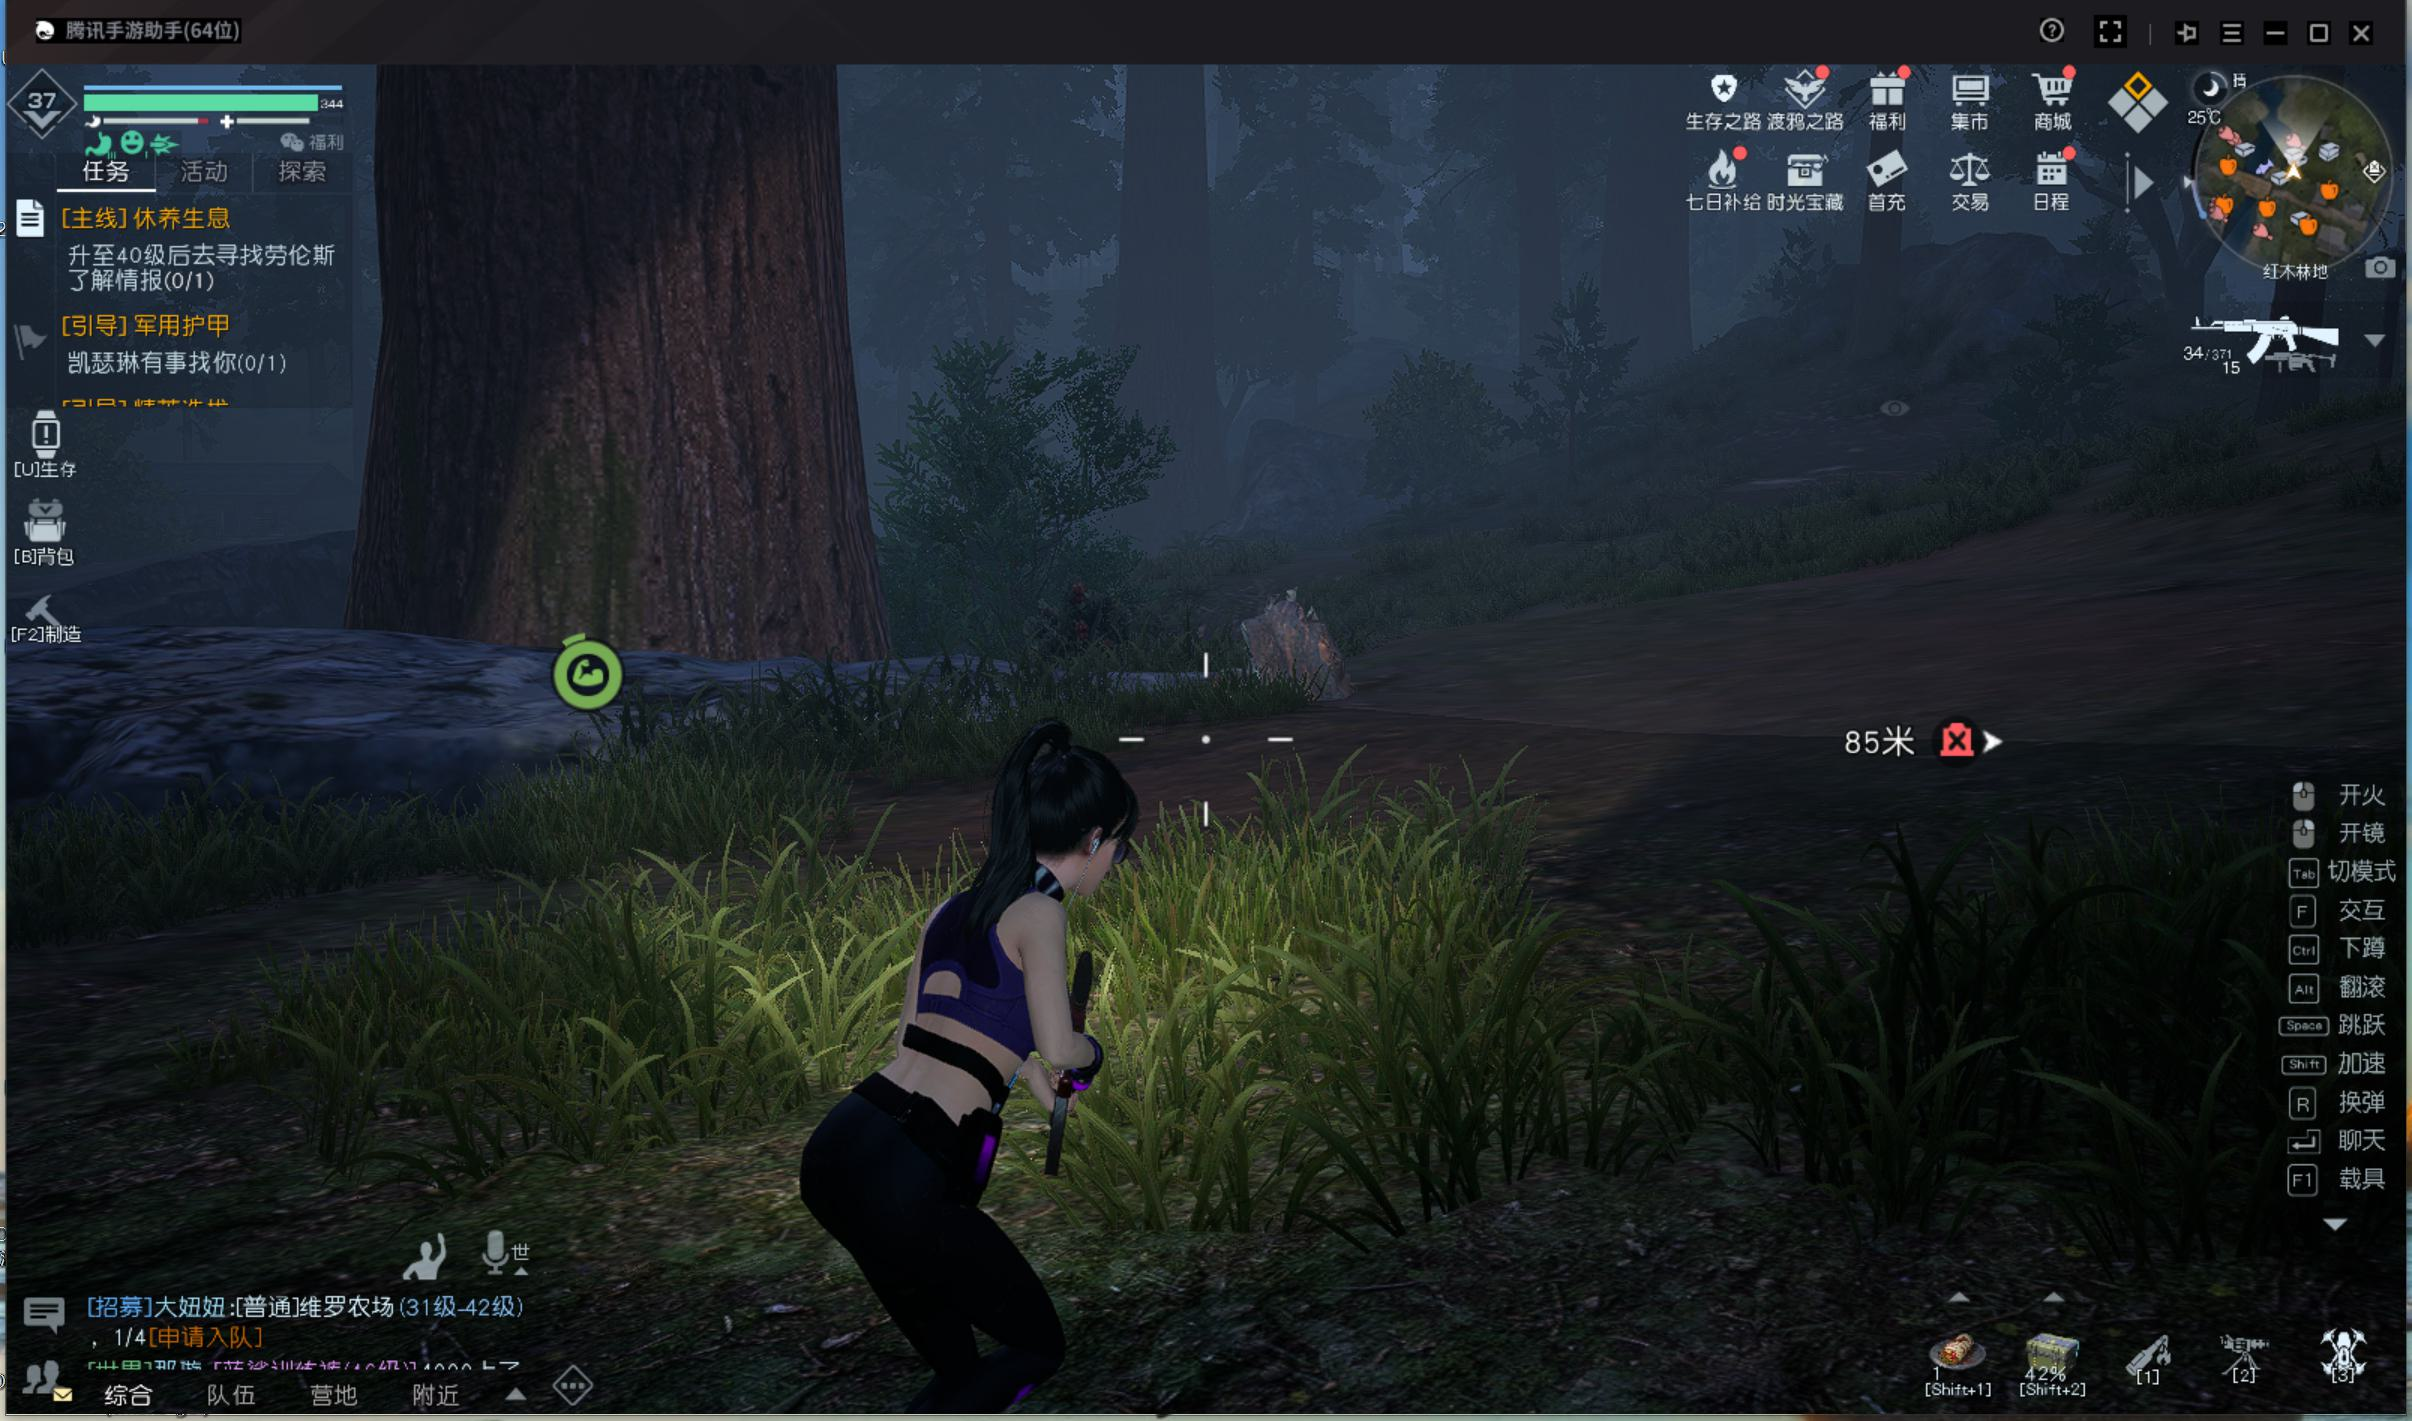stone: (1226, 580, 1358, 731)
tree: (1099, 101, 1225, 541), (1504, 189, 1582, 474)
